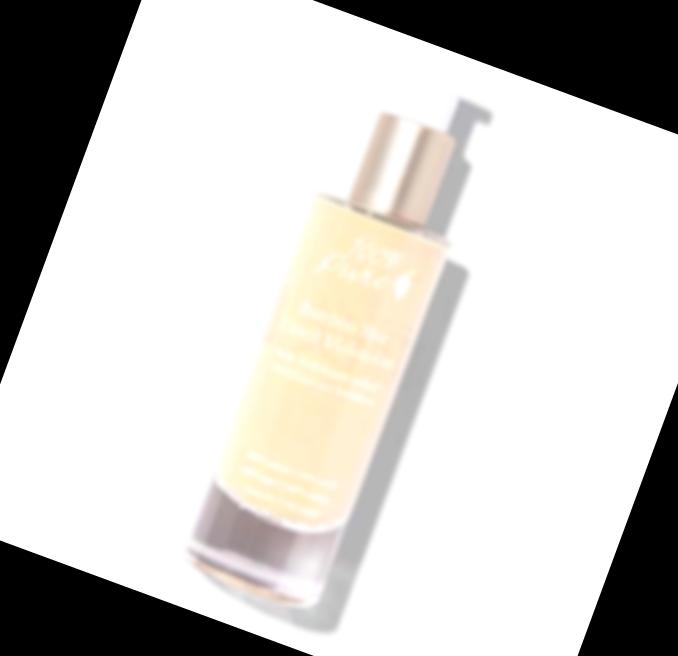cosmetic: (177, 47, 505, 607)
